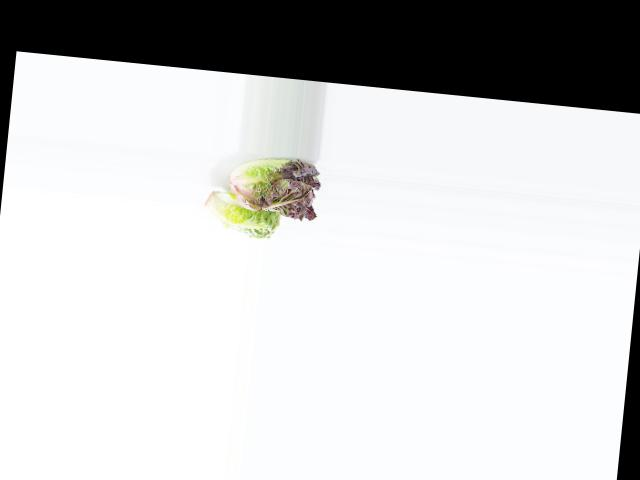lettuce: (199, 186, 284, 241)
